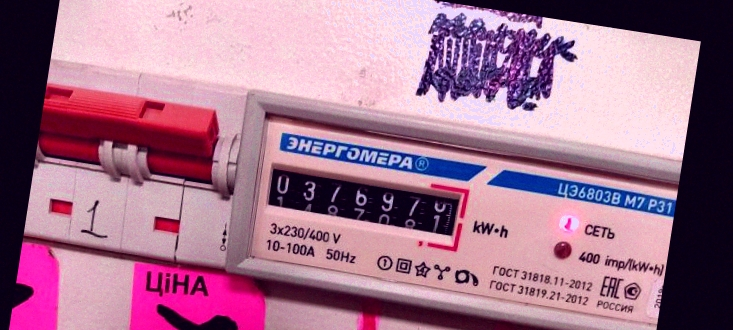0: (274, 171, 291, 195)
1: (428, 212, 443, 233)
3: (300, 178, 319, 202)
6: (352, 182, 371, 207)
7: (325, 179, 344, 204), (405, 193, 423, 218)
9: (378, 188, 396, 213)
screen: (253, 152, 473, 256)
